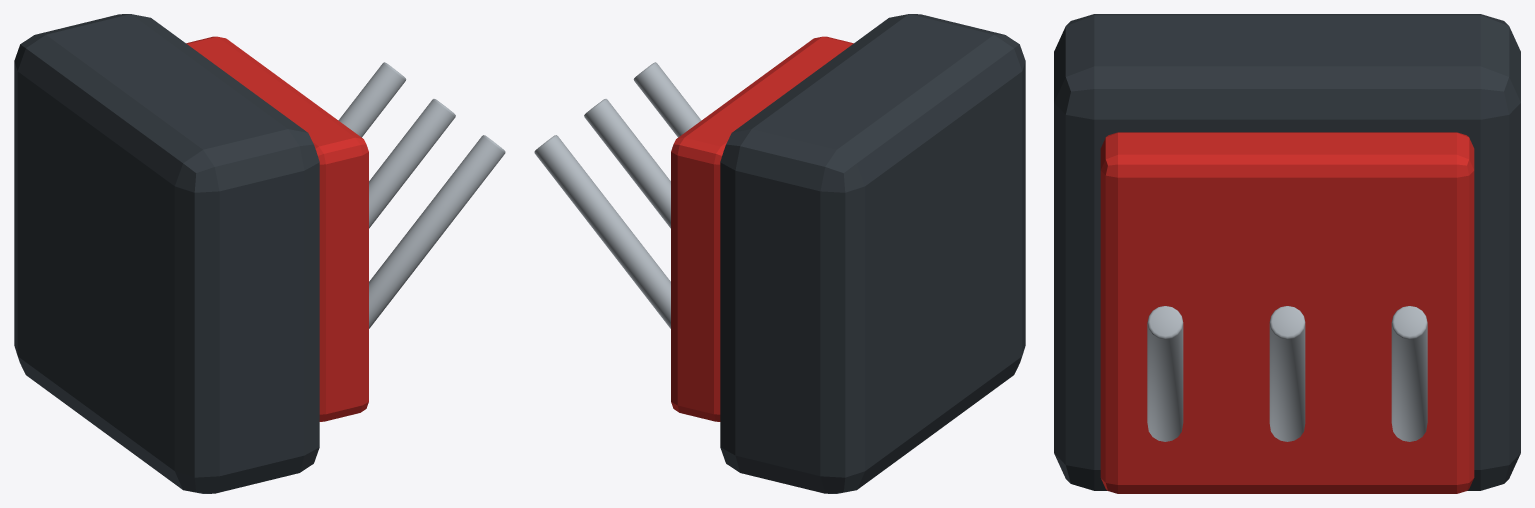
File: Inelastic_Collision_Attachment.fbx
3 views of the same model, side by side, from view 1: azimuth 30°, elevation 25°; view 2: azimuth 150°, elevation 25°; view 3: azimuth 270°, elevation 25° (orthographic). The views are drawn at different scales.
Parts seen in each view (by area): view 1: AttachmentPlate, HookPad, Latch_-0.017, Latch_+0.000, Latch_+0.017; view 2: AttachmentPlate, HookPad, Latch_+0.017, Latch_+0.000, Latch_-0.017; view 3: HookPad, AttachmentPlate, Latch_+0.017, Latch_-0.017, Latch_+0.000.
Part boxes in pixels (bbox=[...]): AttachmentPlate: bbox=[14, 14, 319, 493]; HookPad: bbox=[186, 36, 368, 421]; Latch_-0.017: bbox=[369, 135, 505, 328]; Latch_+0.000: bbox=[369, 99, 455, 228]; Latch_+0.017: bbox=[338, 62, 406, 137]; AttachmentPlate: bbox=[720, 14, 1025, 493]; HookPad: bbox=[671, 36, 853, 421]; Latch_+0.017: bbox=[534, 135, 670, 328]; Latch_+0.000: bbox=[584, 99, 670, 228]; Latch_-0.017: bbox=[633, 62, 701, 137]; HookPad: bbox=[1100, 132, 1474, 493]; AttachmentPlate: bbox=[1054, 14, 1520, 490]; Latch_+0.017: bbox=[1391, 306, 1427, 441]; Latch_-0.017: bbox=[1147, 306, 1183, 441]; Latch_+0.000: bbox=[1269, 306, 1305, 441].
Bounding box in the file's own units: 0.0706 × 0.065 × 0.065.
